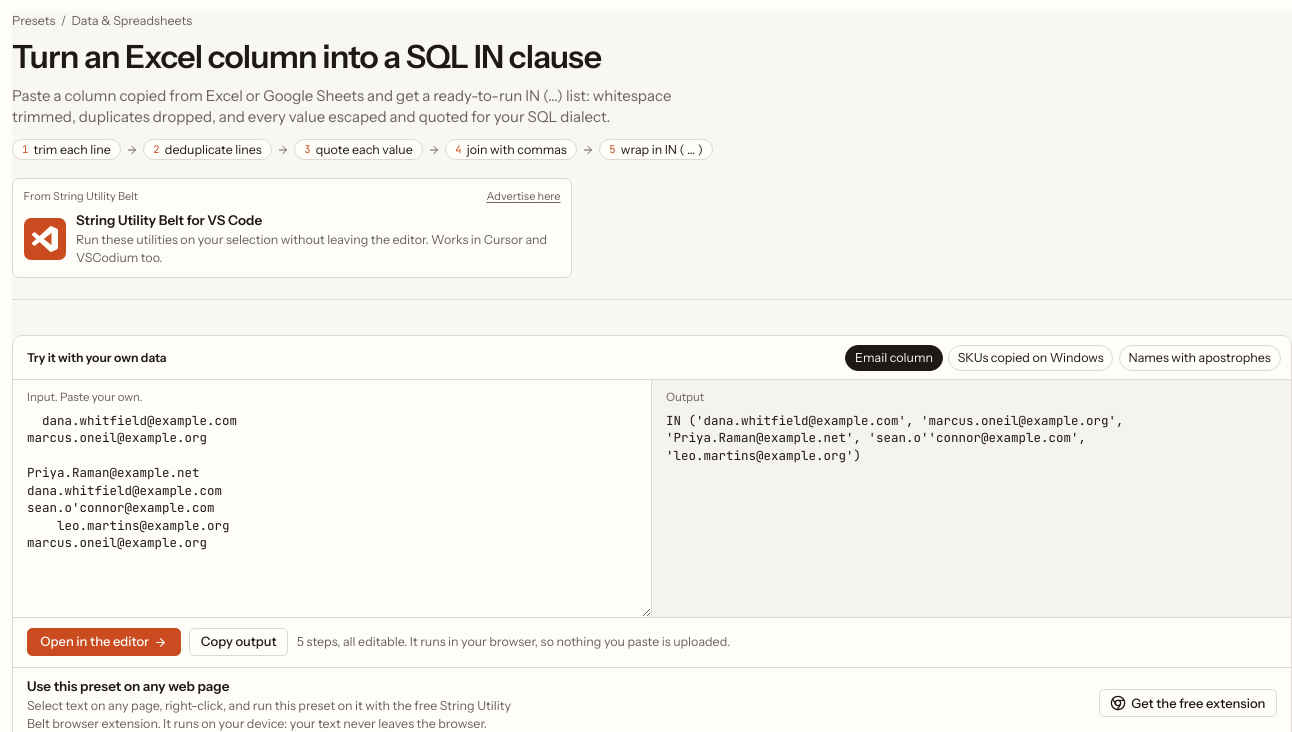
it: PresetPage › clears the output when a run fails, rather than leaving an earlier result beside the error
Expected: the message named "Output" shows "IN ('dana.whitfield@example.com', 'marcus.oneil@example.org', 'Priya.Raman@example.net', 'sean.o''connor@example.com', 'leo.martins@example.org')", [666, 412, 1131, 464]
Replace the text in the text box named "preset input" with "x": x=332, y=512 [13, 406, 651, 616]
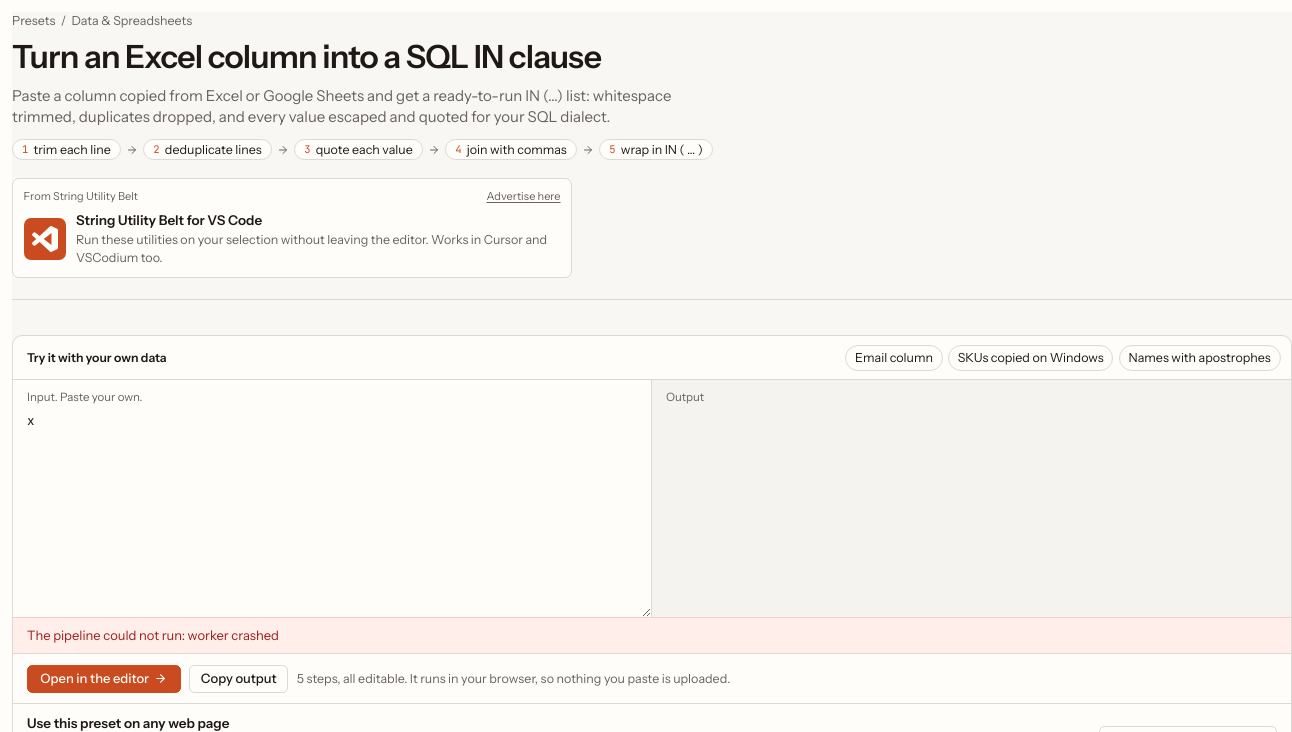
Result: the message "The pipeline could not run: worker crashed" is shown at [13, 616, 1291, 653]
Result: the message named "Output" is empty at [652, 406, 1291, 616]
